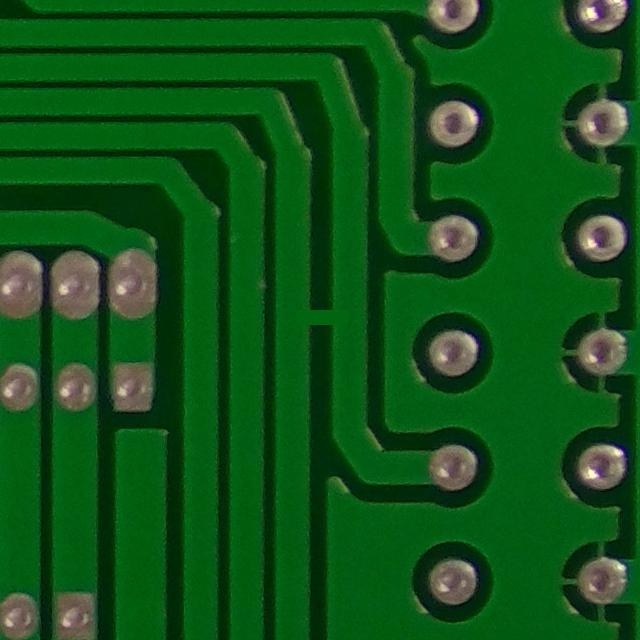short: (267, 271, 373, 369)
